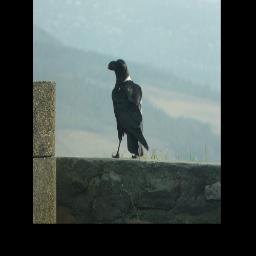Crow: (106, 58, 149, 159)
